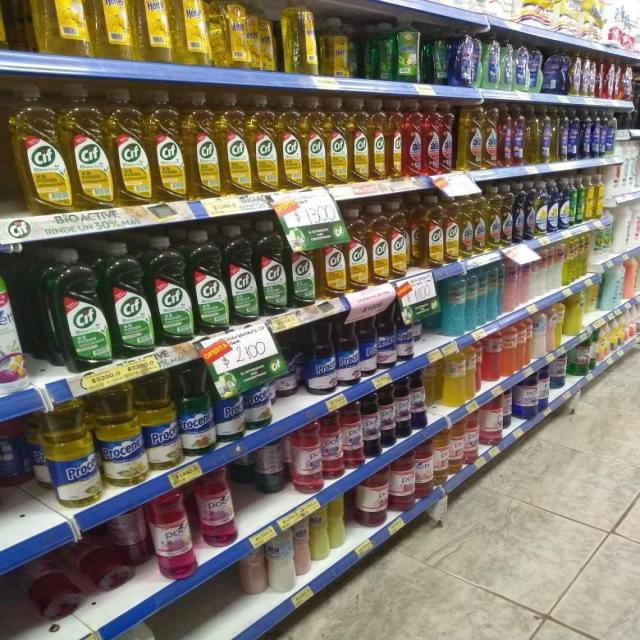ala_conc_amarillo: (457, 102, 482, 172), (482, 102, 498, 168), (460, 190, 473, 259), (486, 186, 500, 250), (473, 188, 486, 254), (501, 184, 512, 246)
ala_conc_azul: (514, 182, 524, 244)
ala_conc_rojo: (403, 100, 422, 178), (422, 100, 440, 176), (440, 100, 456, 173), (498, 104, 512, 168)
ala_crem_amarillo: (311, 506, 329, 562), (330, 498, 346, 551)
ala_crem_blanco: (266, 530, 294, 594)
ala_crem_rosado: (295, 518, 310, 577)
cif_conc_bot_amarilla: (9, 83, 67, 214), (67, 84, 109, 211), (110, 88, 148, 206), (149, 89, 184, 203), (185, 90, 218, 200), (219, 92, 249, 196), (250, 93, 278, 194), (278, 95, 302, 191), (303, 96, 326, 187), (317, 227, 346, 299), (327, 97, 348, 185), (347, 206, 368, 292), (421, 194, 444, 268), (369, 202, 389, 285), (350, 97, 369, 182), (390, 200, 409, 279), (369, 98, 386, 181), (387, 99, 402, 180), (444, 192, 459, 262)
cif_conc_botella_verde: (49, 247, 109, 371), (110, 240, 152, 358), (153, 235, 192, 345), (192, 229, 227, 334), (228, 224, 257, 324), (258, 220, 288, 316), (288, 224, 316, 308)
heroe: (442, 275, 466, 336)
magistral_con_amarillo: (535, 181, 546, 237)
magistral_con_azul: (547, 180, 558, 234), (524, 182, 534, 240)
zorro: (513, 104, 524, 166)
